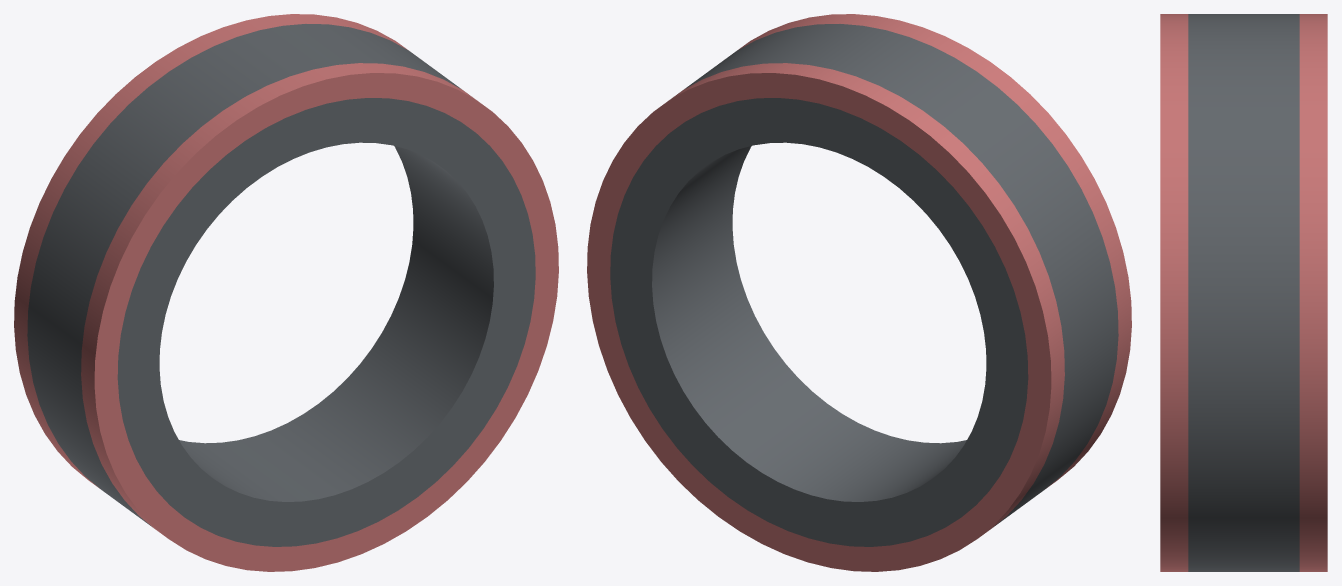
The model's file is step_14.glb.
The picture shows the model from 3 angles, left to right: view 1: azimuth 30°, elevation 25°; view 2: azimuth 150°, elevation 25°; view 3: azimuth 270°, elevation 25°; orthographic projection. The views are drawn at different scales.
Visible parts, largest first — view 1: part__tyre, removed__tyre; view 2: part__tyre, removed__tyre; view 3: part__tyre, removed__tyre.
Boxes of the visible parts, x1,y1,x2,y2 form: part__tyre: (27,24,535,546); removed__tyre: (14,14,558,571); part__tyre: (610,24,1118,546); removed__tyre: (587,14,1131,571); part__tyre: (1188,14,1299,571); removed__tyre: (1160,14,1327,571).
Size of the model in its own units: 99.97 by 99.94 by 30.
